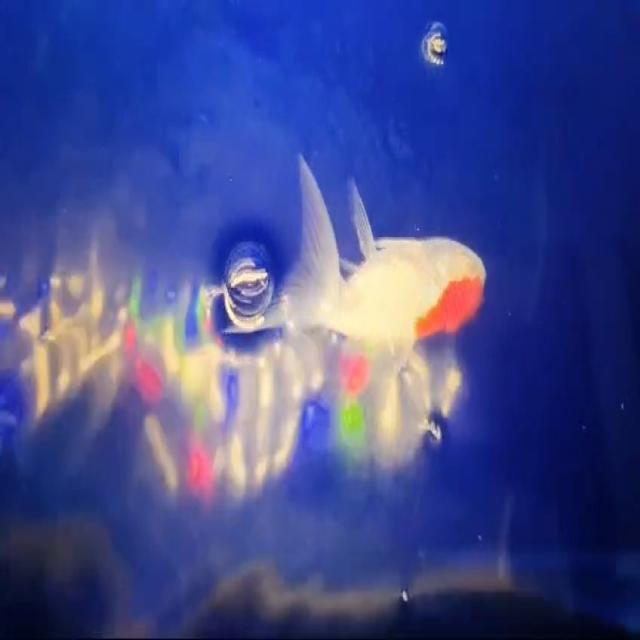fish: (260, 143, 502, 382)
